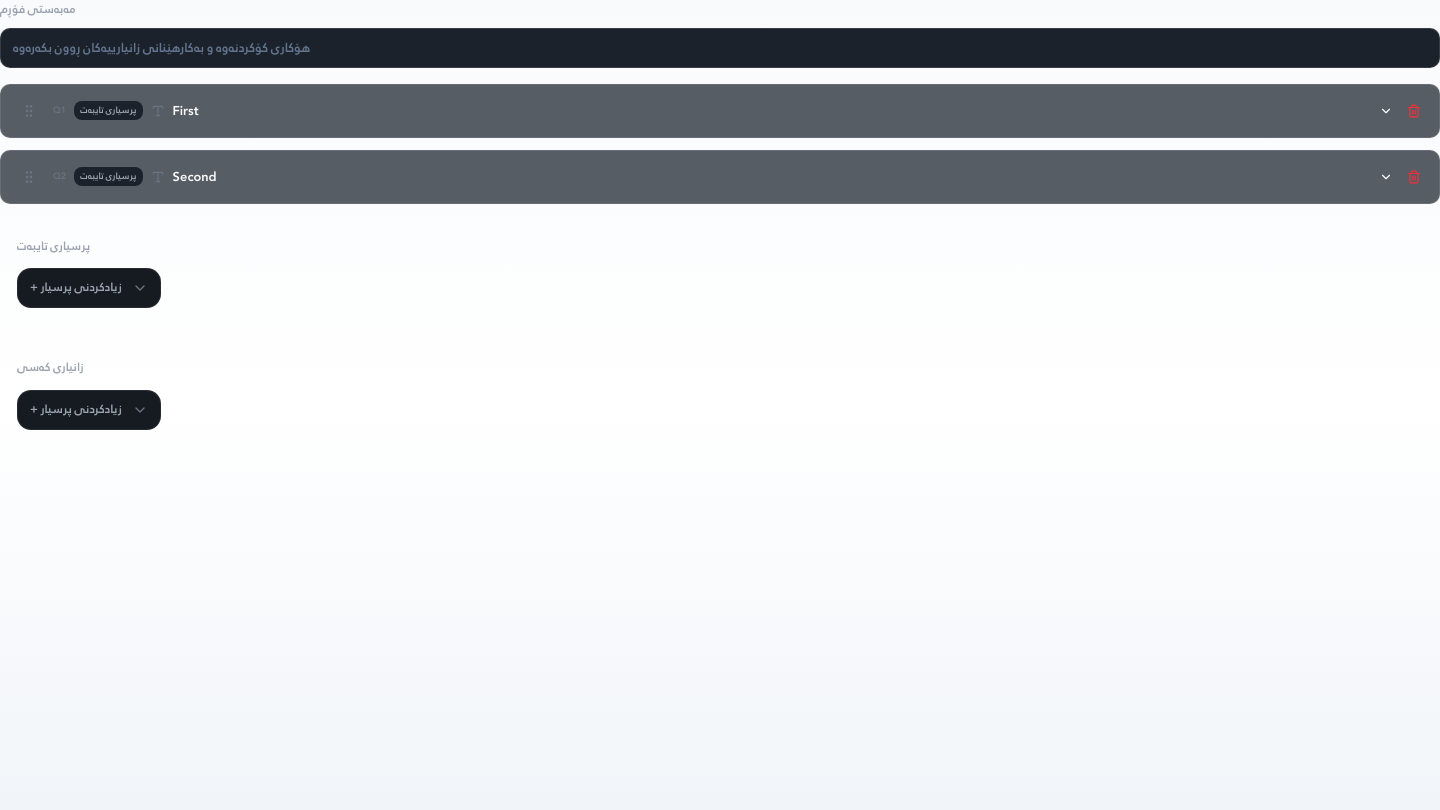
Test: question authoring controls › keeps product editor labels in ckb when the form's content language differs
The width and height of the screenshot is (1440, 810).
Click the 1st button "+ زیادکردنی پرسیار".
click(89, 288)  # box [17,268,161,308]
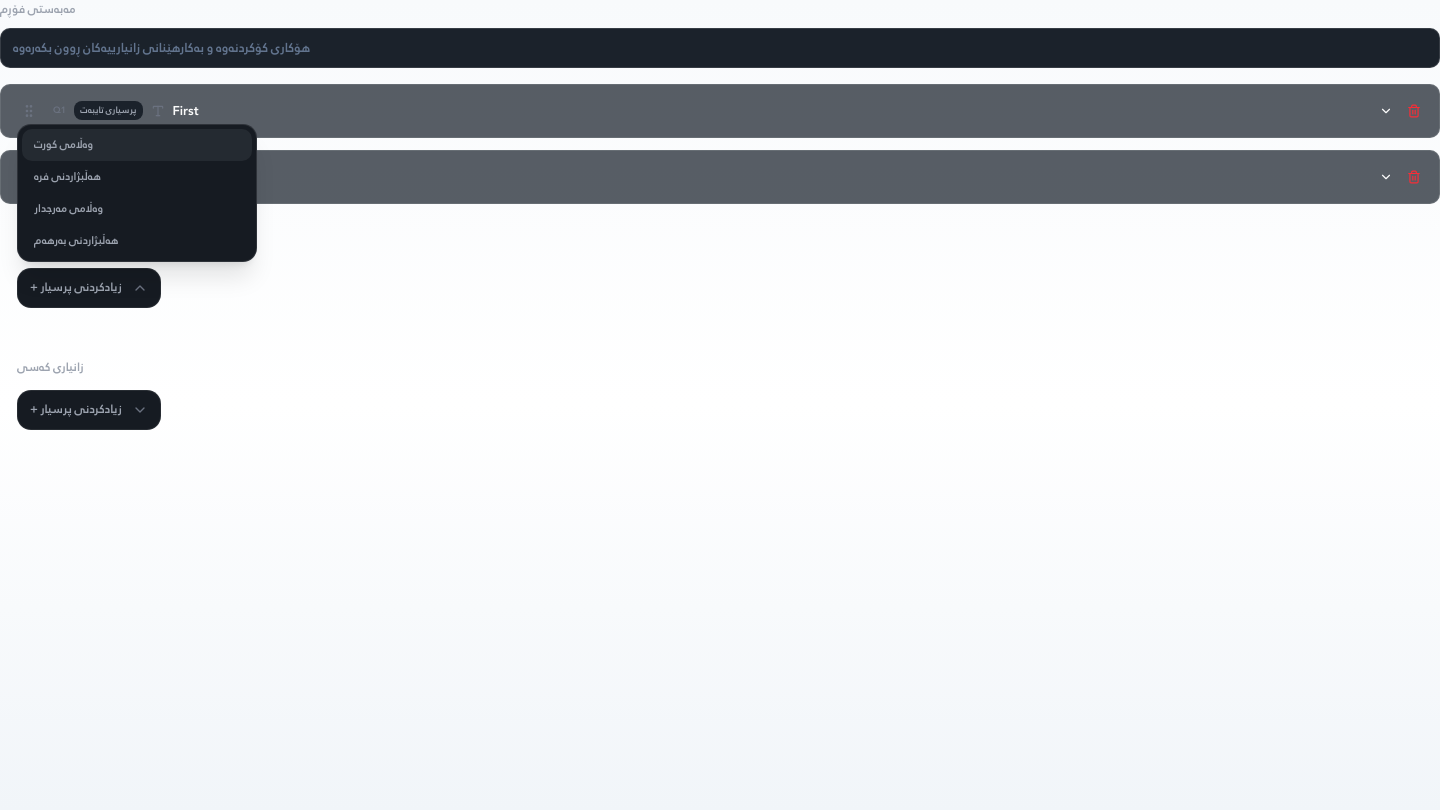
Click the option "هەڵبژاردنی بەرهەم".
click(137, 241)  # box [22,225,252,257]
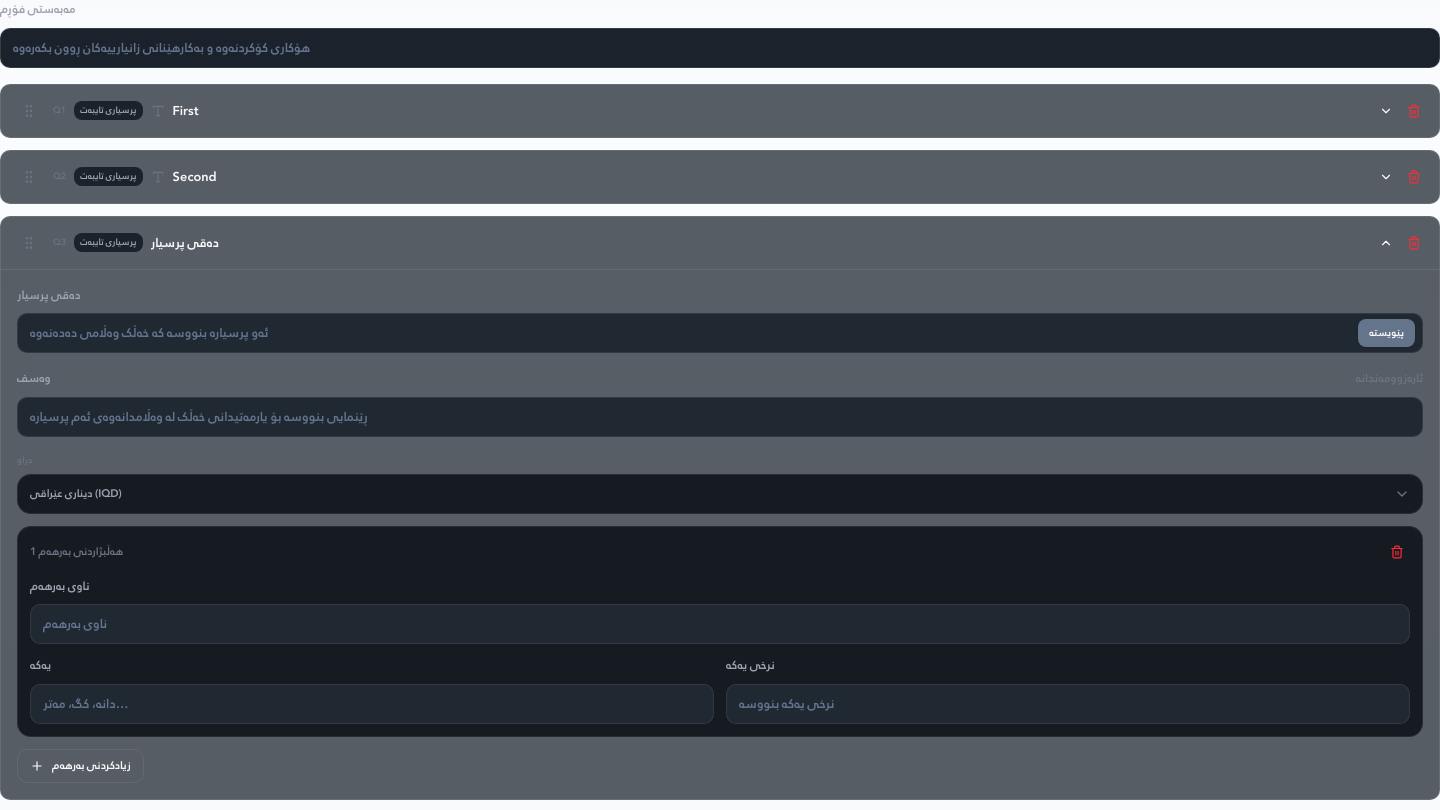
Expected: the field labelled "ناوی بەرهەم" is shown, [30,604,1410,644]
Expected: the field labelled "نرخی یەکە" is shown, [726,684,1410,724]
